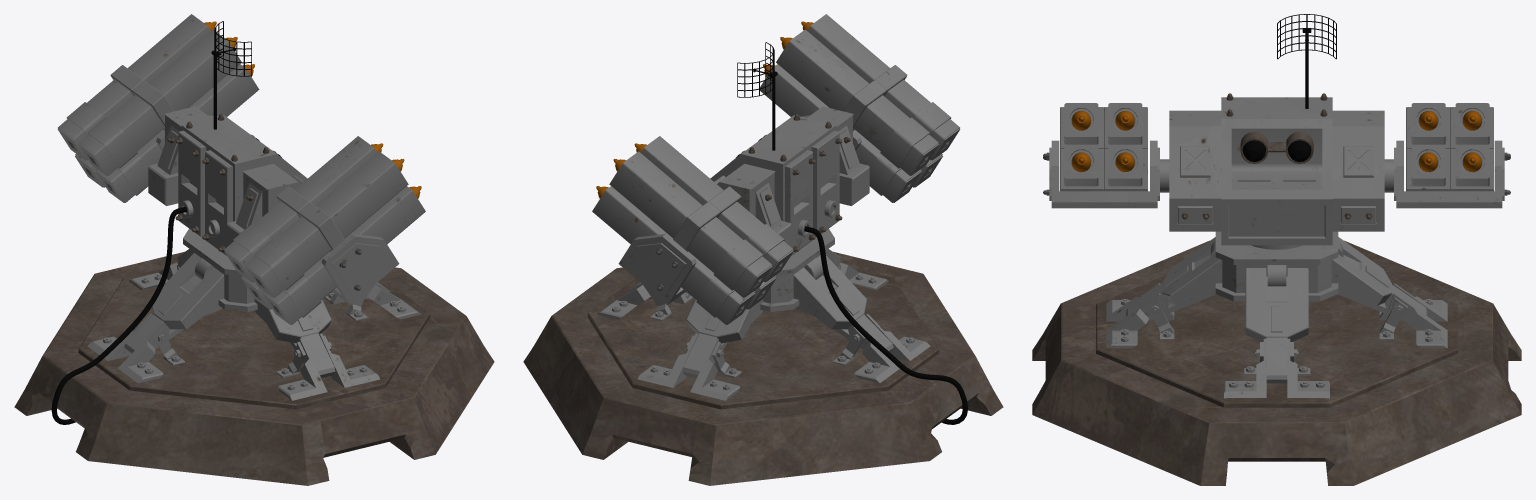
Rendered from iron_wild_turret_-_free.glb.
3 renders of one model, left to right at view 1: azimuth 30°, elevation 25°; view 2: azimuth 150°, elevation 25°; view 3: azimuth 270°, elevation 25°, orthographic. The views are drawn at different scales.
Visible parts, largest first — view 1: Cube.004_15, Cube.001_3, Cube.003_12, Cube_11, Cube.002_6, Plane_14, BezierCurve.001_17, Cylinder.004_9, Cylinder.008_10; view 2: Cube.004_15, Cube.001_3, Cube.003_12, Cube_11, Cube.002_6, Plane_14, BezierCurve.001_17, Cylinder.004_9, Cylinder.008_10; view 3: Cube.004_15, Cube_11, Cube.003_12, Cube.001_3, Cube.002_6, Plane_14, Cylinder.001_2, Cylinder.002_7, Cylinder.004_9, Cylinder_4.
Boxes of the visible parts, bbox=[...] form: Cube.004_15: bbox=[14, 251, 494, 485]; Cube.001_3: bbox=[57, 14, 425, 324]; Cube.003_12: bbox=[87, 249, 421, 400]; Cube_11: bbox=[148, 106, 307, 256]; Cube.002_6: bbox=[156, 115, 399, 304]; Plane_14: bbox=[183, 228, 257, 311]; BezierCurve.001_17: bbox=[51, 206, 187, 424]; Cylinder.004_9: bbox=[211, 21, 251, 129]; Cylinder.008_10: bbox=[167, 114, 269, 252]; Cube.004_15: bbox=[523, 251, 1003, 485]; Cube.001_3: bbox=[592, 14, 960, 324]; Cube.003_12: bbox=[596, 249, 930, 400]; Cube_11: bbox=[710, 106, 869, 256]; Cube.002_6: bbox=[618, 115, 861, 304]; Plane_14: bbox=[760, 228, 834, 311]; BezierCurve.001_17: bbox=[804, 226, 967, 424]; Cylinder.004_9: bbox=[737, 42, 777, 150]; Cylinder.008_10: bbox=[748, 114, 850, 252]; Cube.004_15: bbox=[1032, 240, 1521, 485]; Cube_11: bbox=[1169, 97, 1384, 245]; Cube.003_12: bbox=[1106, 237, 1447, 398]; Cube.001_3: bbox=[1060, 103, 1493, 191]; Cube.002_6: bbox=[1049, 140, 1504, 208]; Plane_14: bbox=[1215, 231, 1338, 301]; Cylinder.001_2: bbox=[1072, 111, 1481, 172]; Cylinder.002_7: bbox=[1240, 131, 1313, 163]; Cylinder.004_9: bbox=[1277, 14, 1336, 108]; Cylinder_4: bbox=[1160, 159, 1393, 192].
Size of the model in its own units: 8.81 by 7.1 by 8.81.
7 materials, 3 textured.
